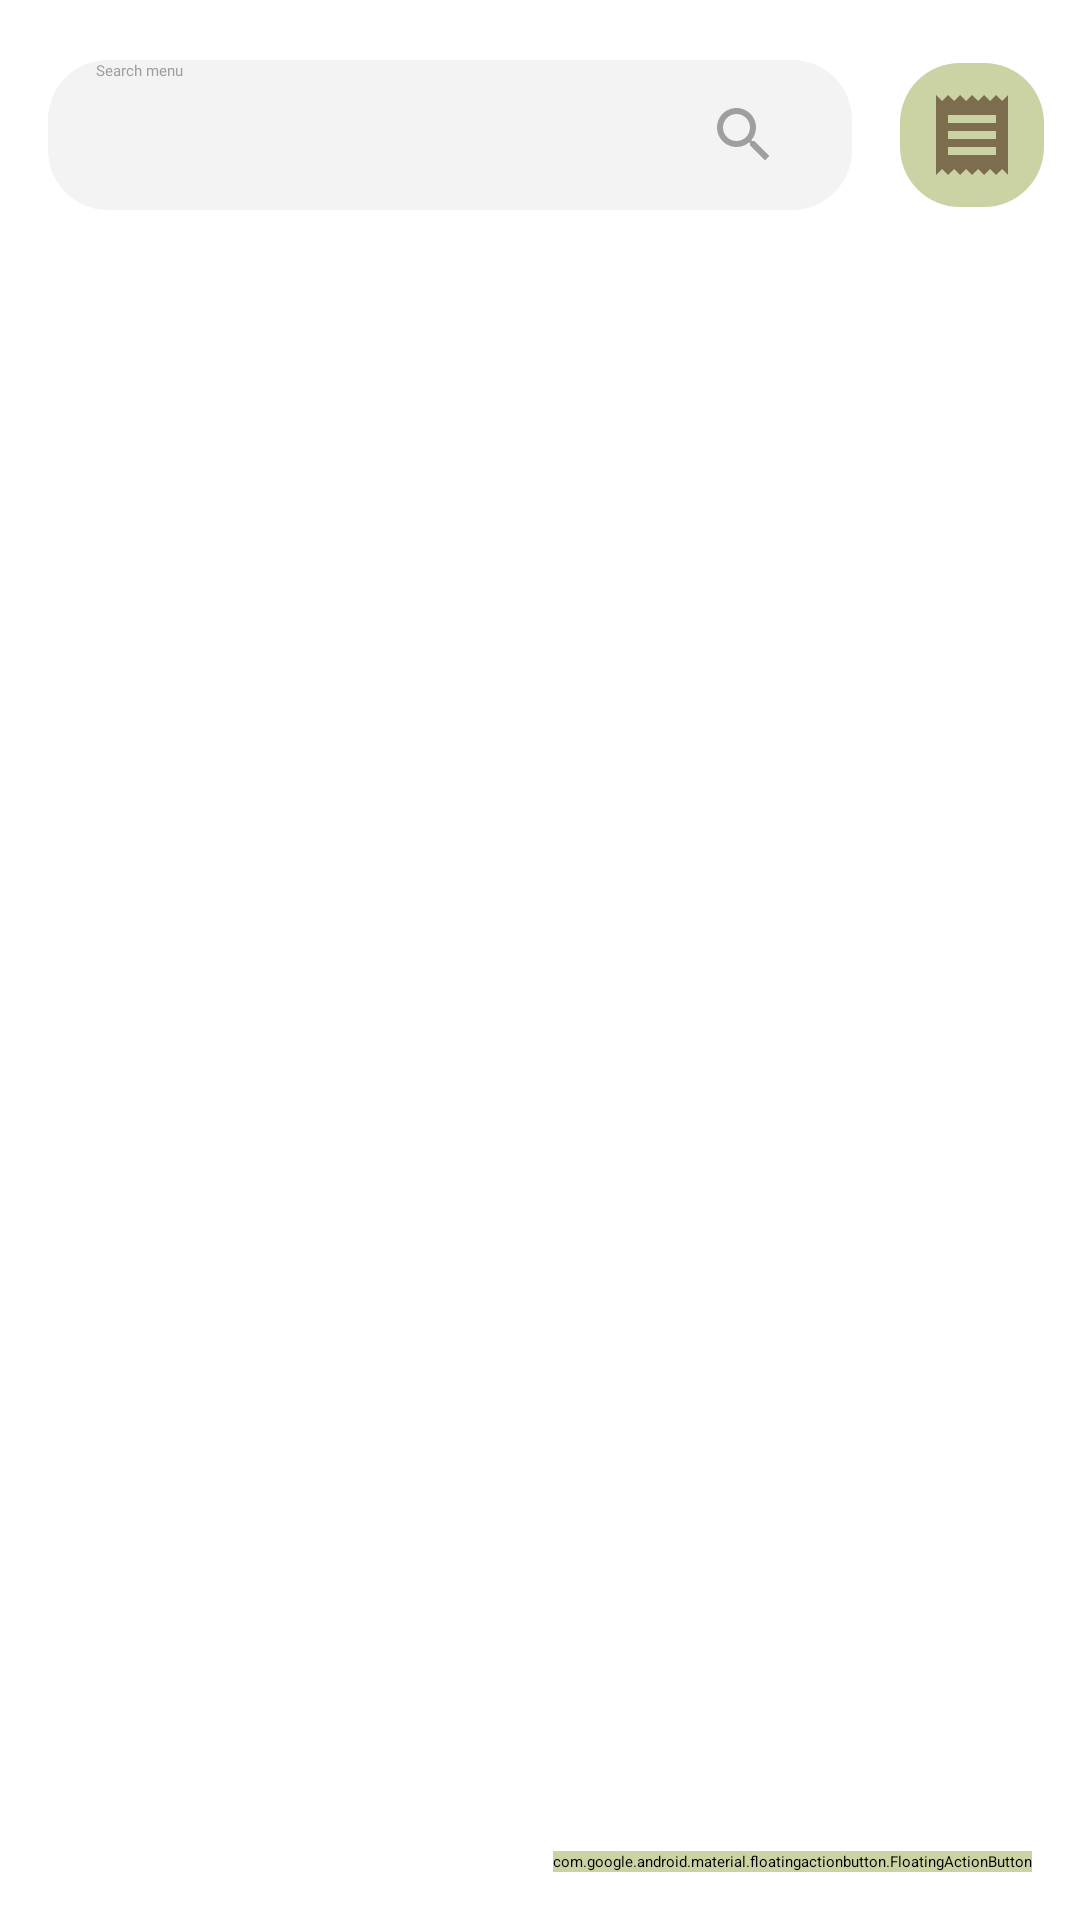

Where icons sit on this 1080px x 1920px app screen, as detection(x1, y1, x2, y2):
receipt: detection(900, 63, 1044, 207)
